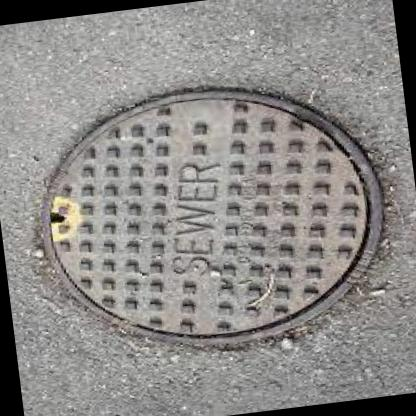manholes: (0, 36, 416, 387)
